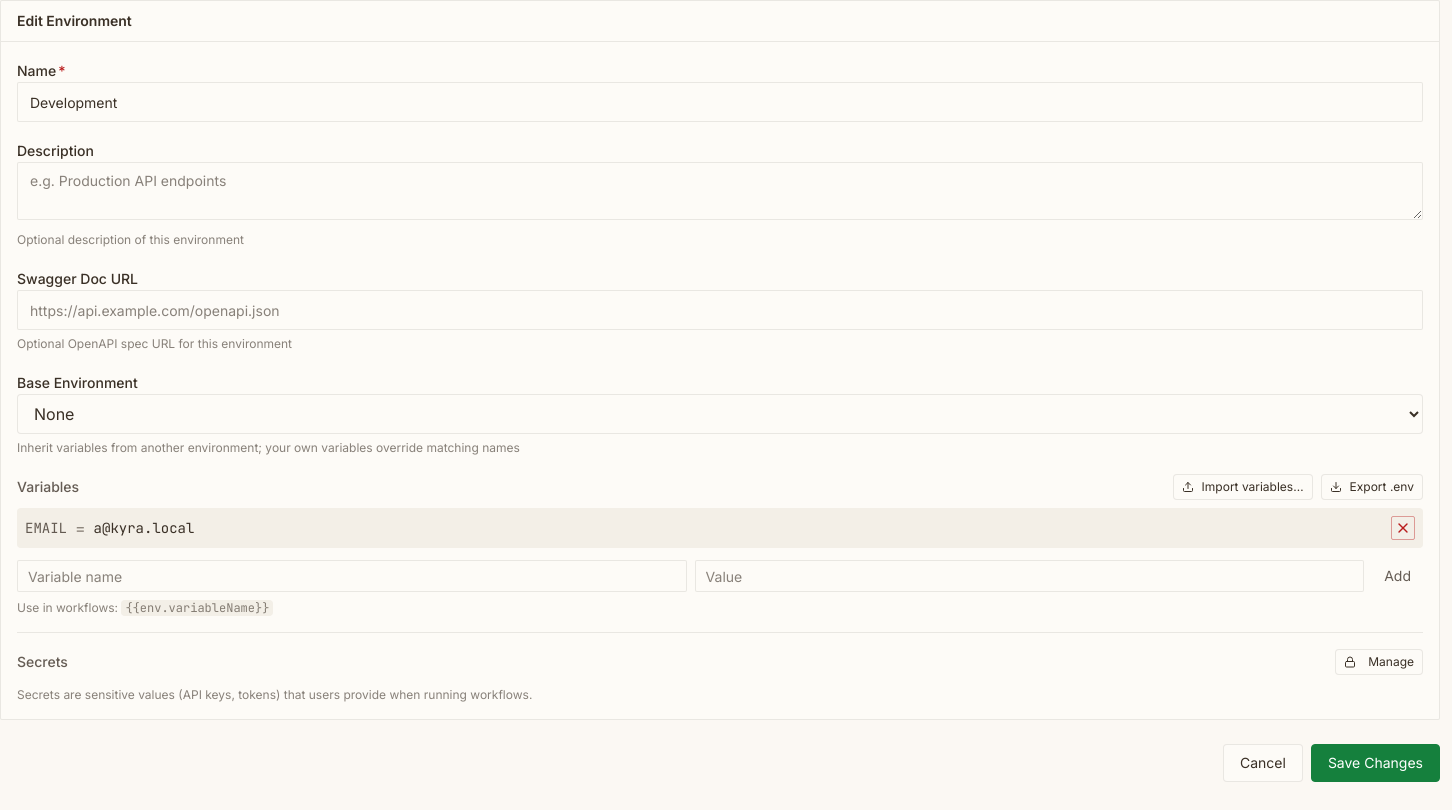
Test: EnvironmentForm — editing a variable › Escape cancels the edit without changing the variable
Double-click the text "EMAIL" at (46, 528), box [25,518,67,538]
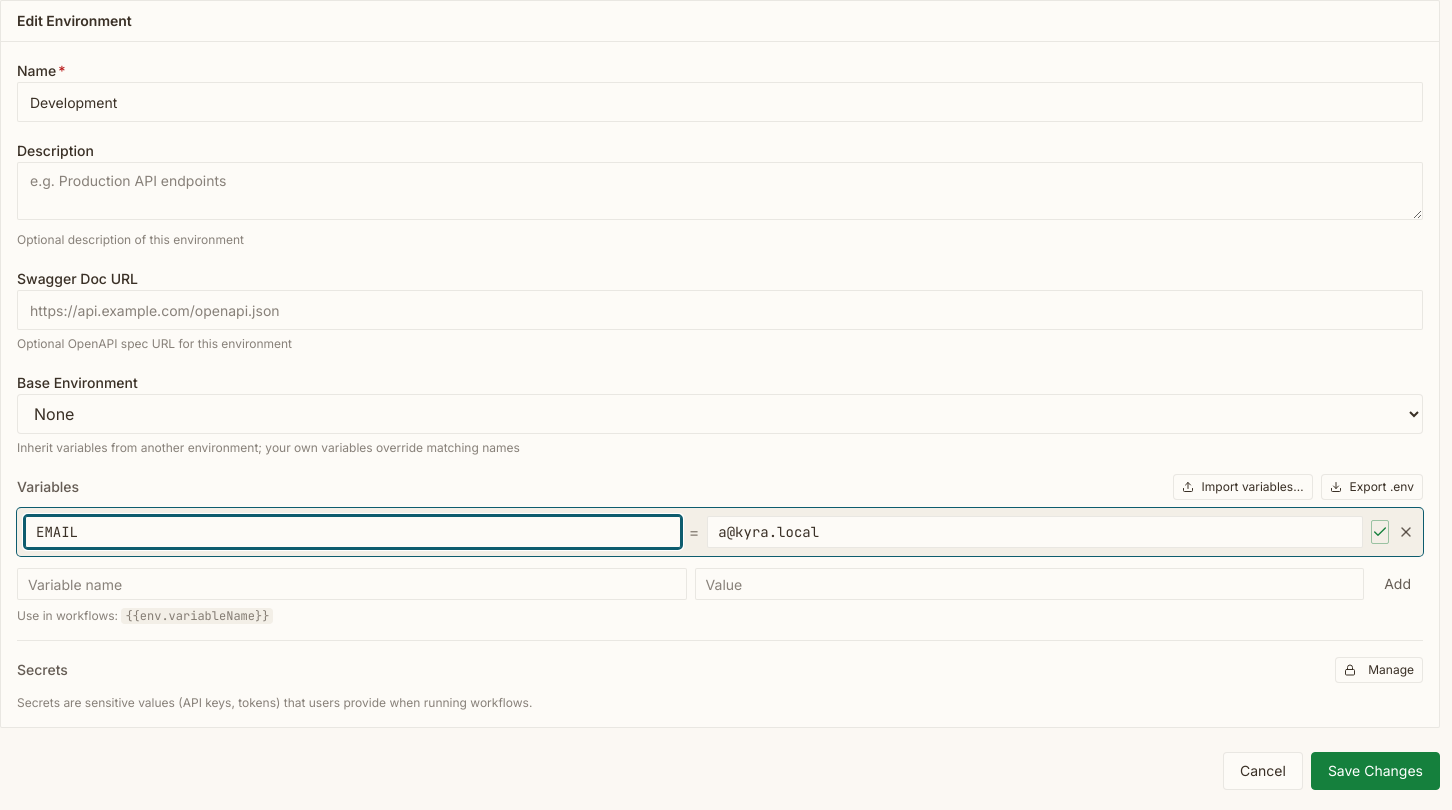
Type "garbage" into the 3rd field with placeholder "Edit value" at (1035, 532), box [707,516,1363,548]
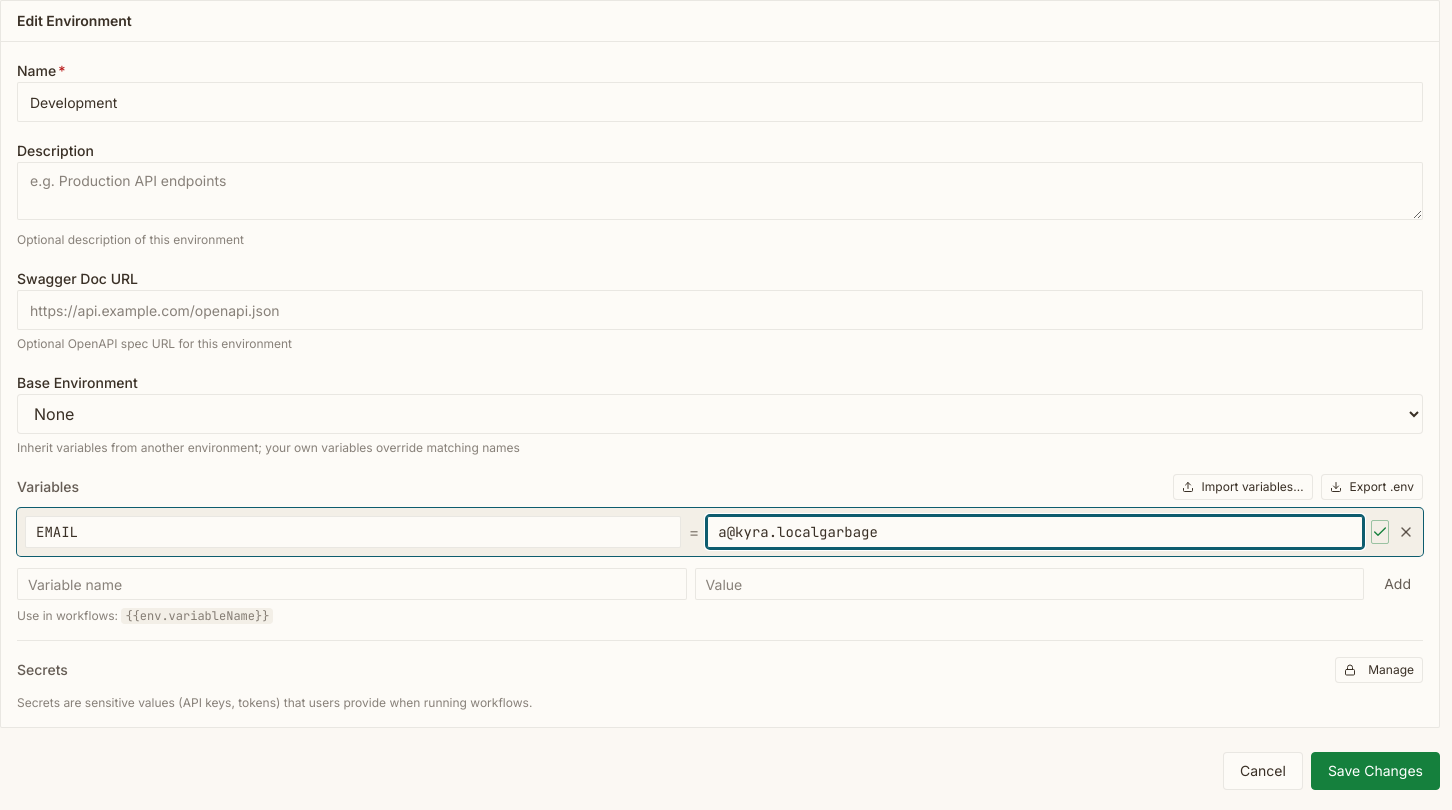
Press Escape
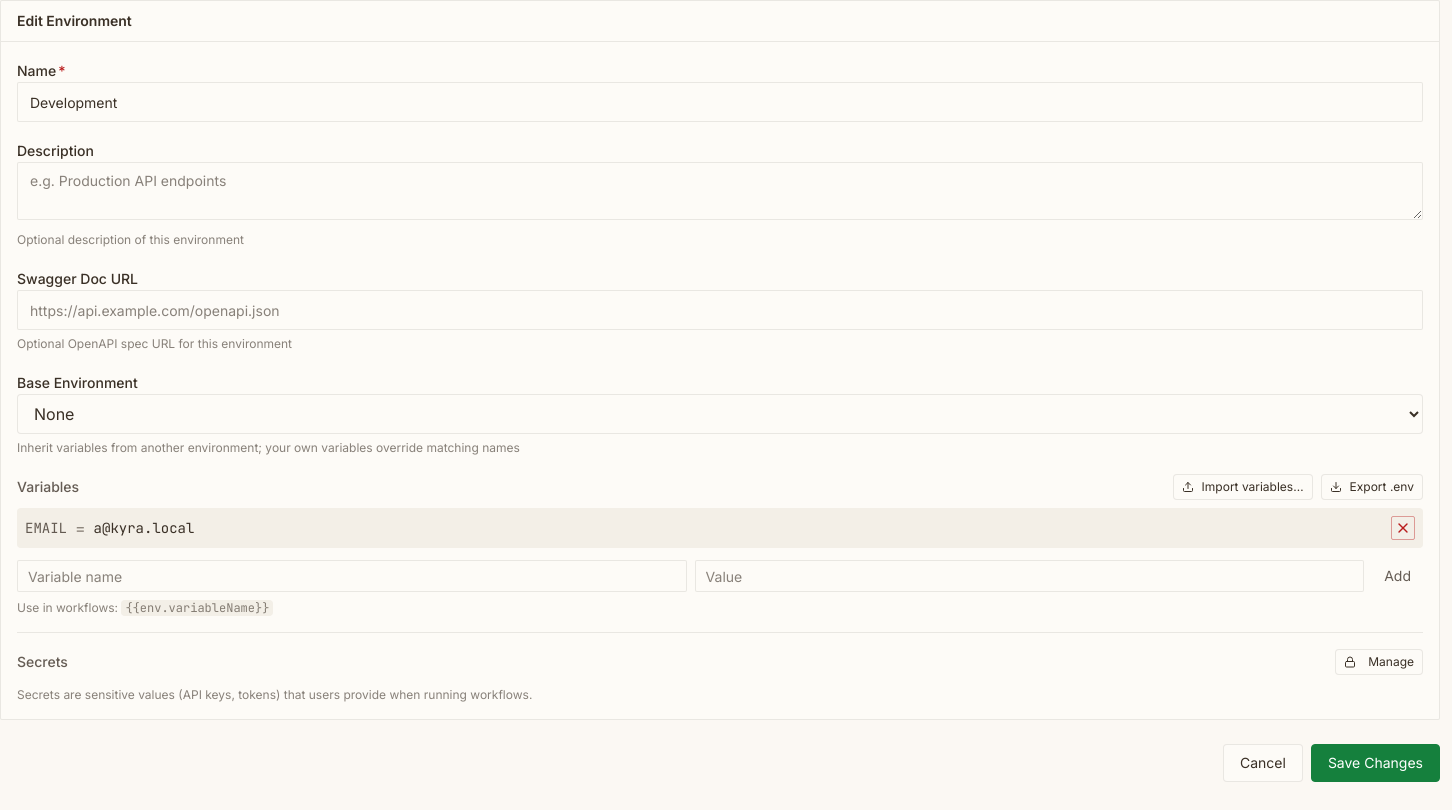
Now the text "a@kyra.local" is shown, box [94,519,194,537]
